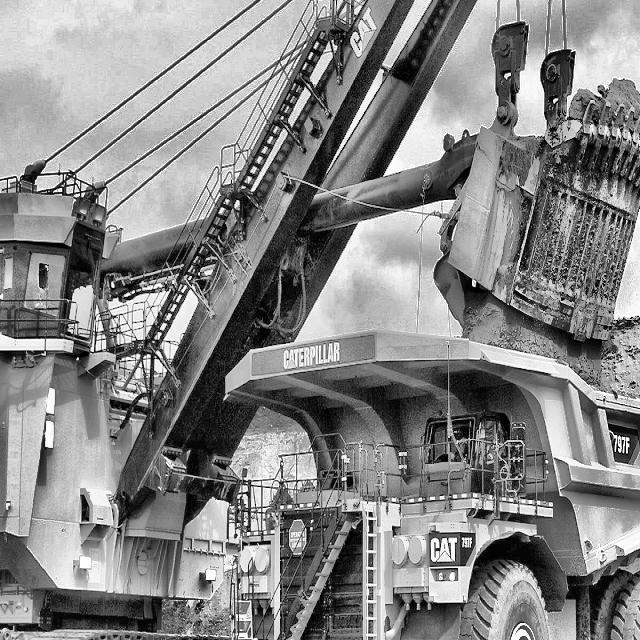dump_truck: (216, 313, 640, 640)
